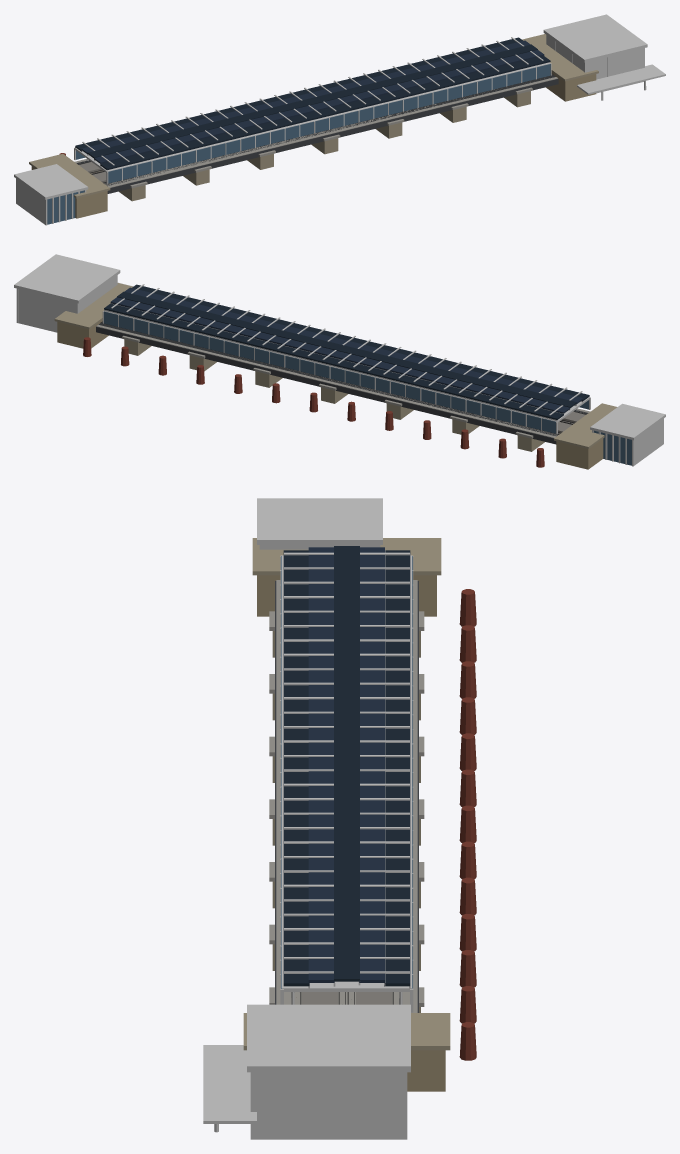
File: blackfriars_station.glb
The picture shows the model from 3 angles, top to bottom: view 1: azimuth 30°, elevation 25°; view 2: azimuth 150°, elevation 25°; view 3: azimuth 270°, elevation 25°; orthographic projection. The views are drawn at different scales.
Parts seen in each view (by area): view 1: blackfriars_station; view 2: blackfriars_station; view 3: blackfriars_station.
Part boxes in pixels (left/top/right/bottom): blackfriars_station: left=14, top=14, right=665, bottom=225; blackfriars_station: left=14, top=254, right=665, bottom=469; blackfriars_station: left=203, top=498, right=476, bottom=1139.
Bounding box in the file's own units: 312 × 18.8 × 60.9.
